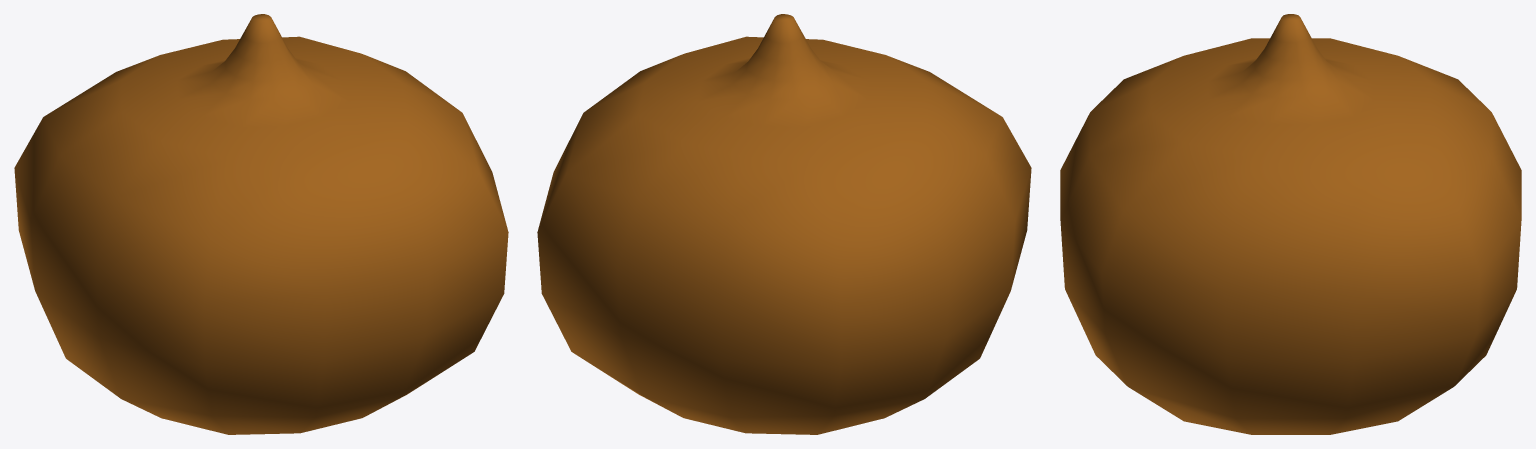
The model's file is Onion.fbx.
3 renders of one model, left to right at view 1: azimuth 30°, elevation 25°; view 2: azimuth 150°, elevation 25°; view 3: azimuth 270°, elevation 25°, orthographic.
Visible parts, largest first — view 1: Onion; view 2: Onion; view 3: Onion.
Part boxes in pixels (left/top/right/bottom): Onion: left=14, top=14, right=508, bottom=434; Onion: left=537, top=14, right=1031, bottom=434; Onion: left=1060, top=14, right=1521, bottom=434.
Bounding box in the file's own units: 118 × 111 × 119.
